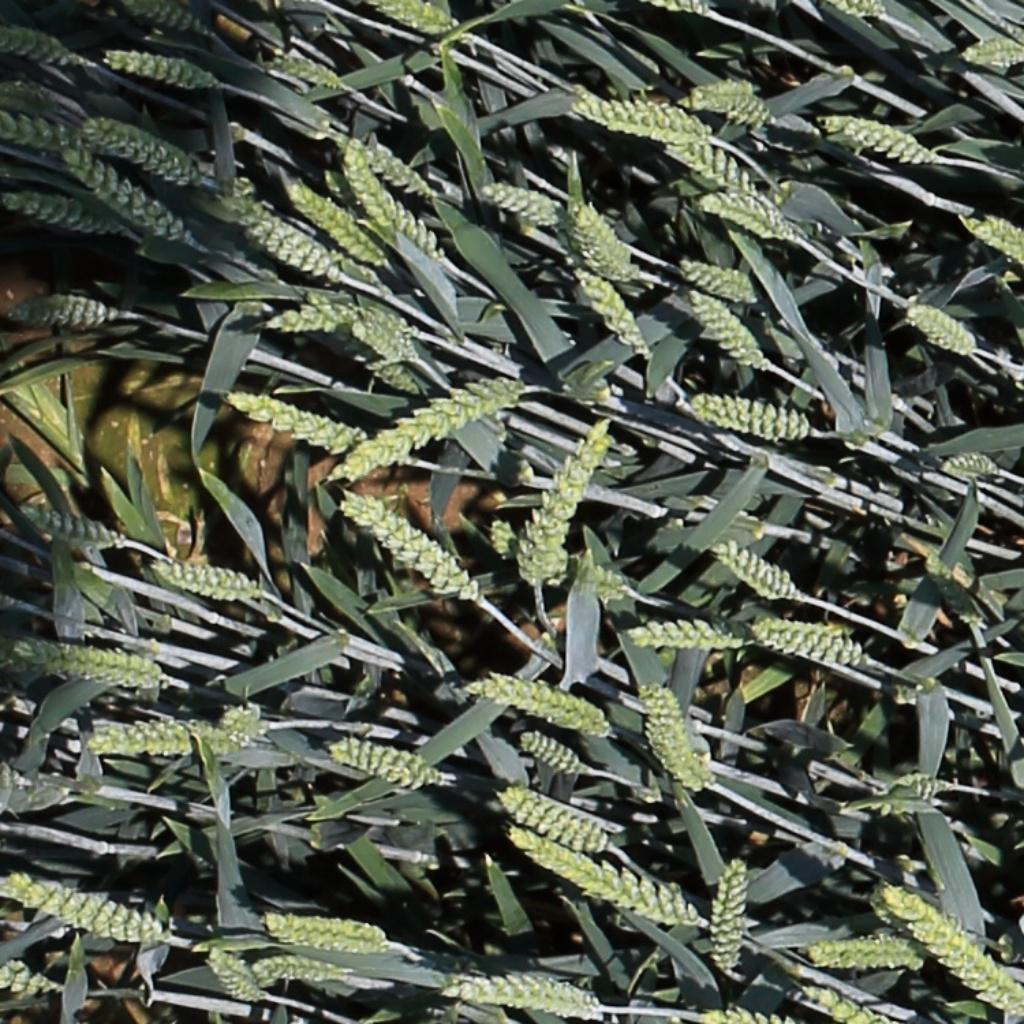0-0: (332, 366, 526, 495), (884, 881, 1024, 1014), (509, 835, 694, 928), (521, 416, 613, 578), (335, 491, 475, 596), (337, 146, 443, 260), (61, 147, 182, 240), (70, 129, 193, 219), (223, 188, 337, 281), (0, 873, 155, 940), (81, 716, 237, 777), (469, 677, 615, 737), (20, 630, 171, 688), (567, 258, 652, 360), (80, 114, 199, 185), (748, 611, 875, 675), (286, 180, 383, 263), (570, 91, 712, 147), (327, 732, 450, 793), (637, 682, 703, 791), (222, 391, 359, 443), (496, 790, 604, 854), (684, 286, 765, 370), (257, 301, 412, 342), (625, 612, 742, 662), (659, 133, 755, 192), (339, 133, 427, 197), (826, 111, 936, 161), (917, 544, 981, 628), (685, 395, 808, 436), (712, 542, 798, 600), (803, 934, 928, 973), (438, 980, 593, 1011), (569, 197, 630, 275), (6, 191, 117, 233), (697, 191, 795, 238), (793, 982, 899, 1024), (16, 505, 120, 547), (150, 559, 259, 599), (102, 49, 212, 86), (524, 492, 566, 588), (712, 854, 744, 976), (692, 72, 776, 118), (862, 778, 956, 817), (262, 918, 382, 948), (962, 215, 1024, 273), (905, 303, 974, 354), (476, 181, 558, 221), (675, 258, 753, 300), (939, 437, 1000, 490), (517, 733, 584, 778), (0, 958, 66, 1003), (1, 27, 77, 66), (131, 0, 207, 38), (571, 555, 630, 603), (200, 948, 259, 995), (10, 297, 120, 322), (360, 352, 421, 395), (375, 0, 456, 32), (350, 319, 410, 359), (267, 55, 339, 88), (717, 97, 776, 135), (248, 963, 348, 981), (486, 513, 517, 569), (959, 46, 1024, 60)
